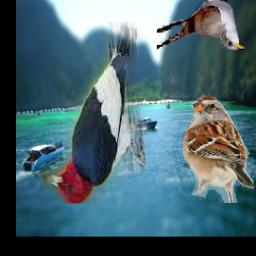Cuckoo: (158, 0, 246, 51)
Sparrow: (182, 95, 255, 203)
Woodpecker: (42, 22, 146, 205)
